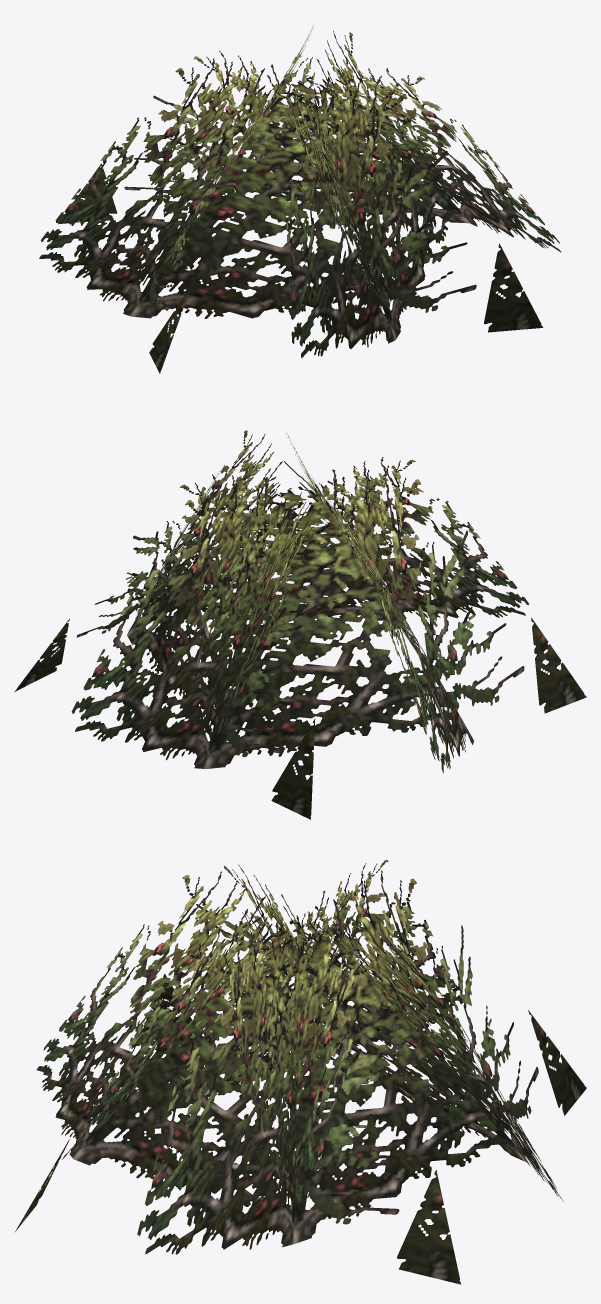
File: plaguelandwesternbush04.obj
3 renders of one model, top to bottom at view 1: azimuth 30°, elevation 25°; view 2: azimuth 150°, elevation 25°; view 3: azimuth 270°, elevation 25°, orthographic. The views are drawn at different scales.
Parts seen in each view (by area): view 1: PLAGUELANDWESTERNBUSH040; view 2: PLAGUELANDWESTERNBUSH040; view 3: PLAGUELANDWESTERNBUSH040.
Part boxes in pixels (x1,y1,x2,y2): PLAGUELANDWESTERNBUSH040: (39,25,561,373); PLAGUELANDWESTERNBUSH040: (14,430,586,819); PLAGUELANDWESTERNBUSH040: (14,859,586,1284).
Size of the model in its own units: 6.3 by 3.03 by 5.93.
Materials: 1 (1 with a texture image).
